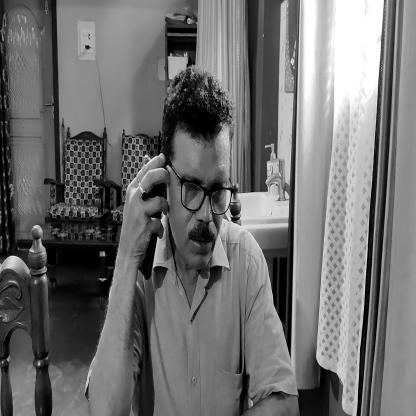Distracted: (160, 64, 232, 278)
